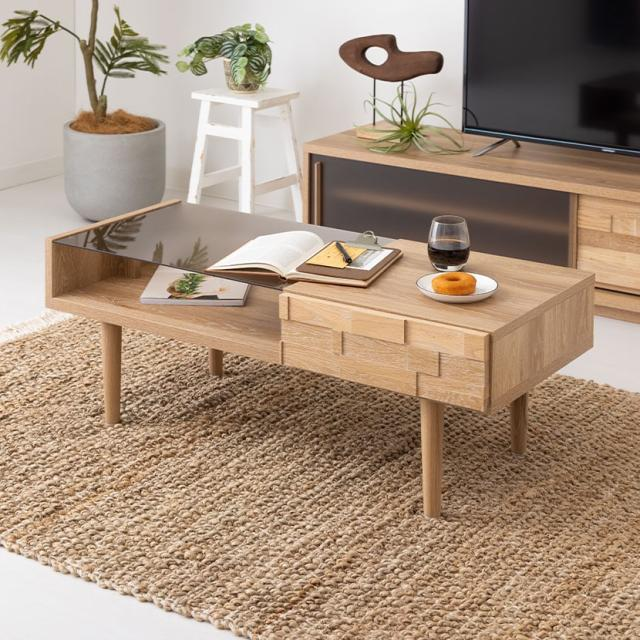natural desk: (49, 196, 594, 535)
